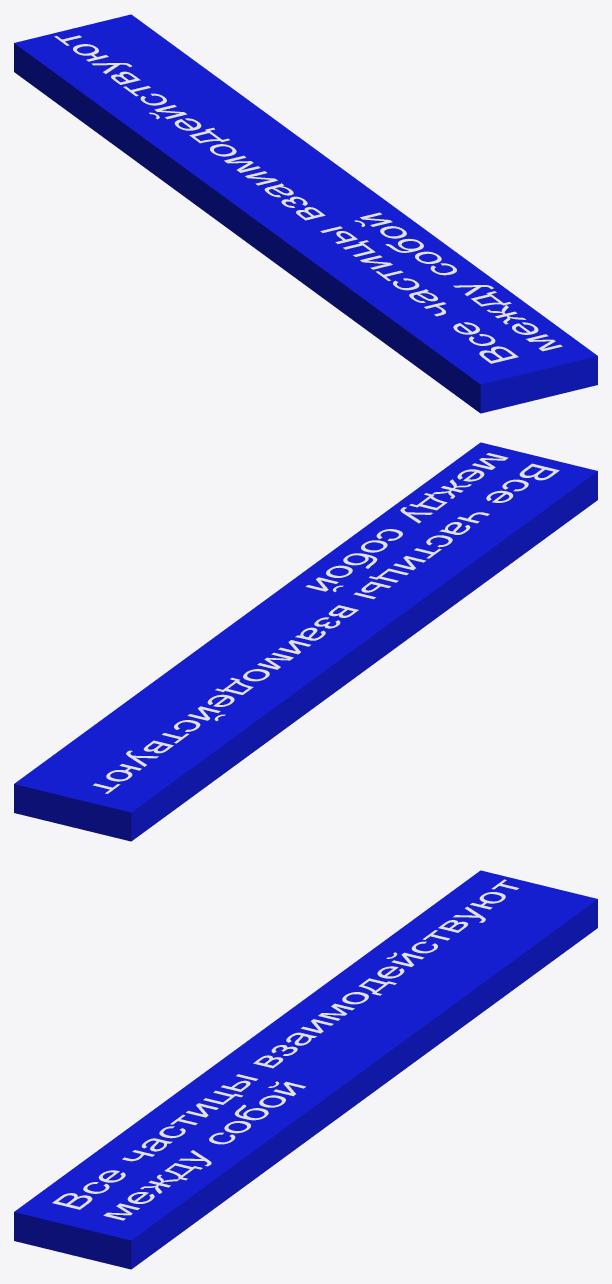
3 renders of one model, top to bottom at view 1: azimuth 30°, elevation 25°; view 2: azimuth 150°, elevation 25°; view 3: azimuth 330°, elevation 25°, orthographic.
Parts seen in each view (by area): view 1: Text001; view 2: Text001; view 3: Text001.
Part boxes in pixels (x1,y1,x2,y2): Text001: [14, 14, 597, 413]; Text001: [14, 442, 597, 841]; Text001: [14, 870, 597, 1269].
Size of the model in its own units: 11.52 by 3.17 by 79.35.
